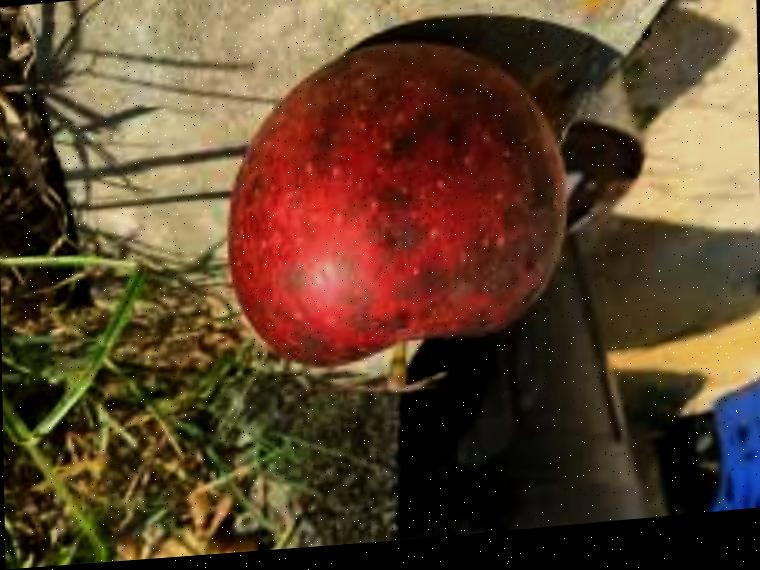BLOTCH: (201, 3, 625, 425)
